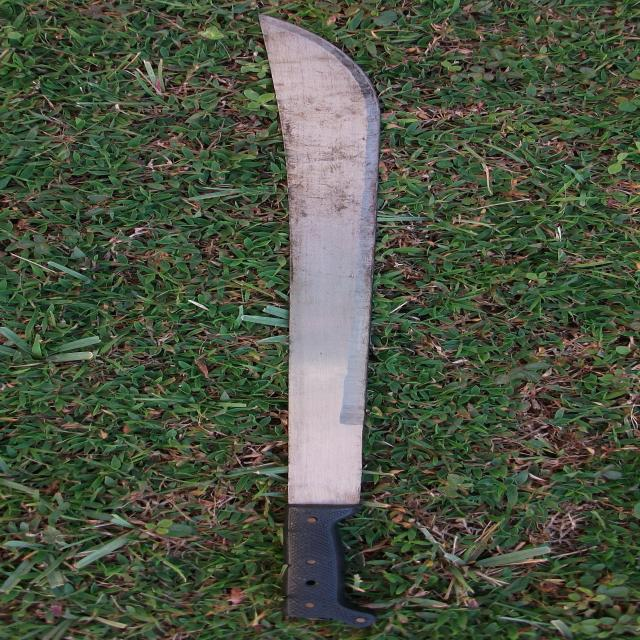knife: (257, 6, 387, 628)
